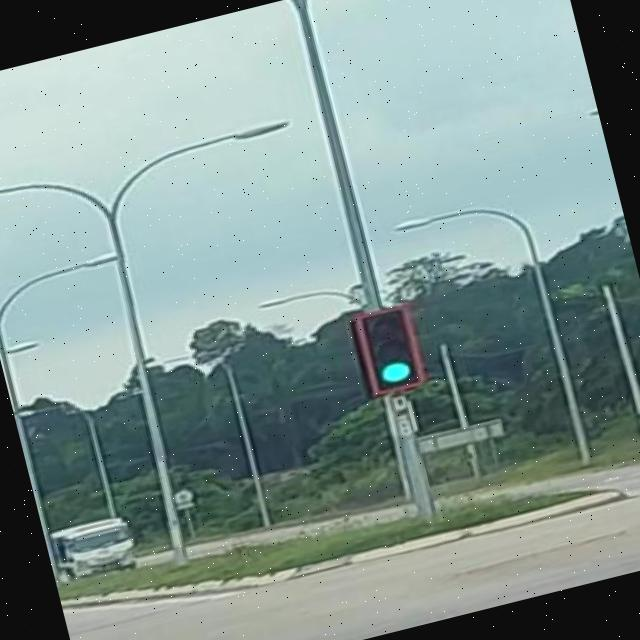green_light: (351, 300, 426, 394)
